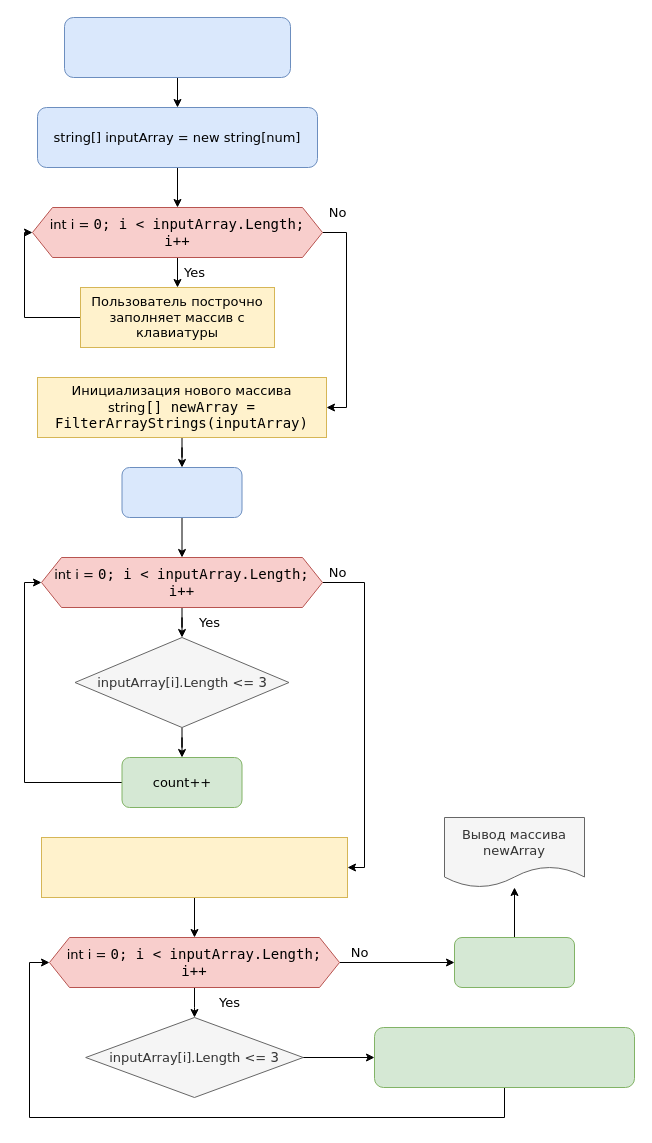
Some shapes in this 652 by 1143 pixel diagram are drawn without their labels. The shapes that lost their labels are listed below. From the top down, each one's centre as x and y in pixels, then its label:
At point (177, 47): "Пользователя запрашивают ввести количество элементов в массиве int num".
At point (181, 492): "int count".
At point (194, 867): "string [] newArray = new string [count]".
At point (514, 962): "return newArray".
At point (504, 1057): "newArray [count] = inputArray [i] count++".
